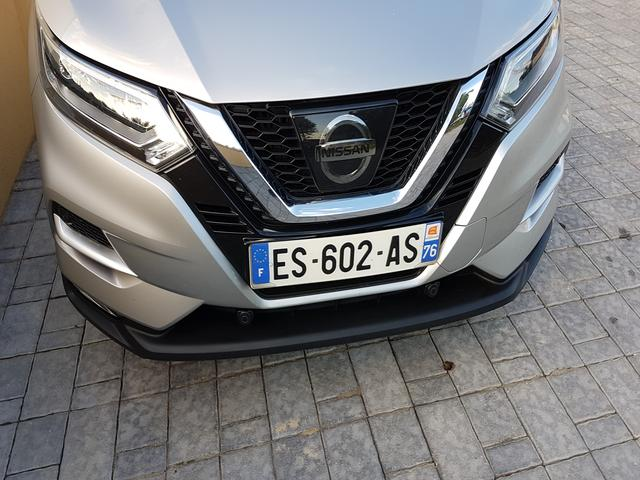Quashquai: (228, 208, 475, 305)
